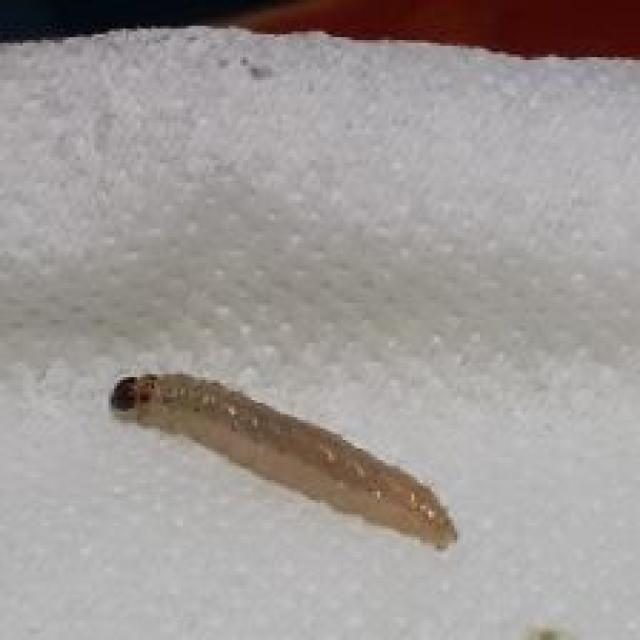white mucus: (97, 364, 483, 555)
